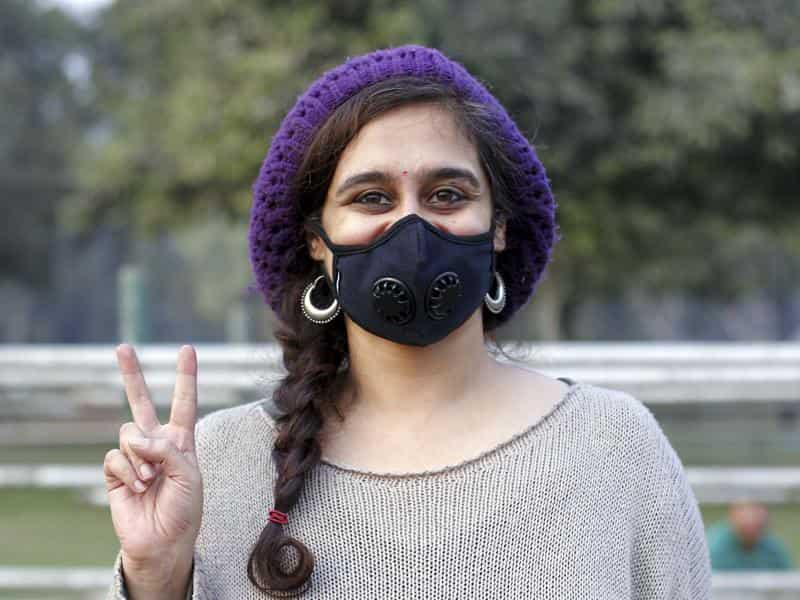with_mask: (316, 97, 501, 353)
